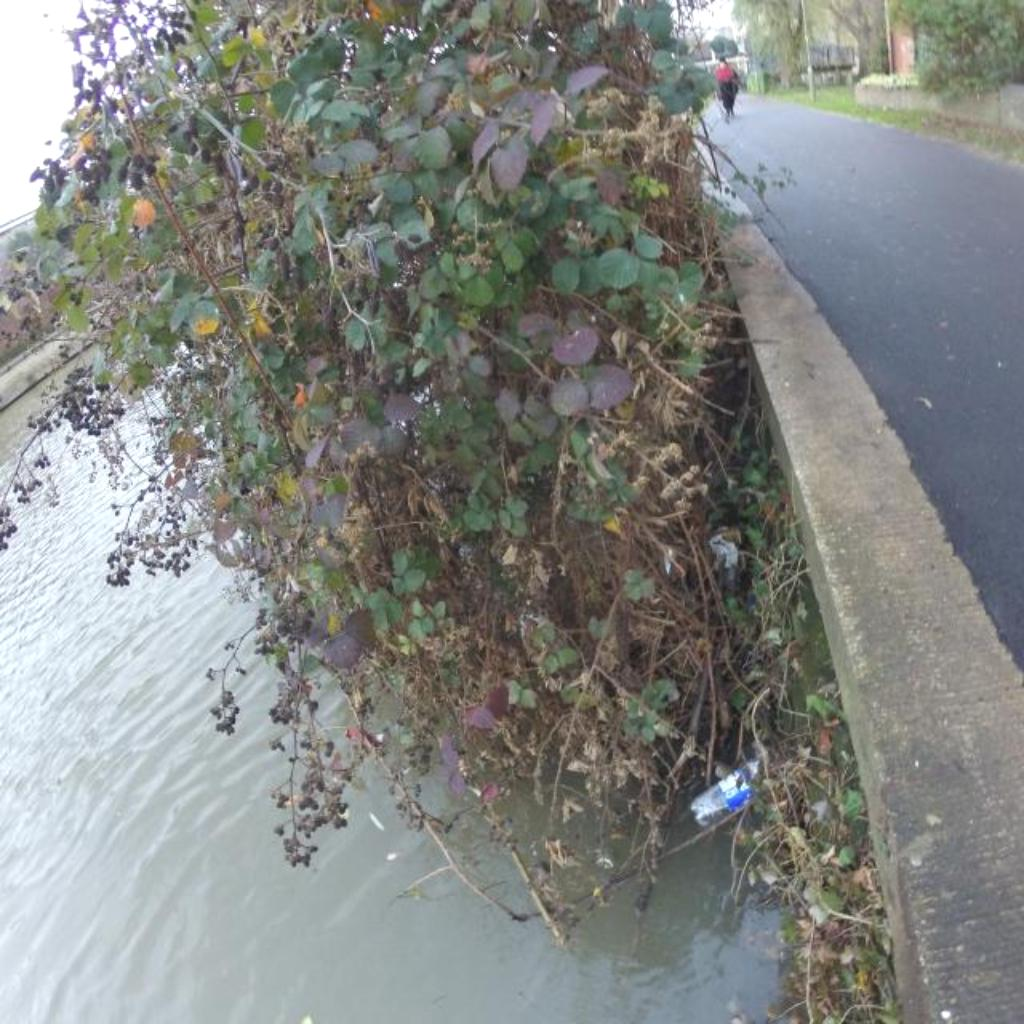garbage: (690, 760, 767, 829)
